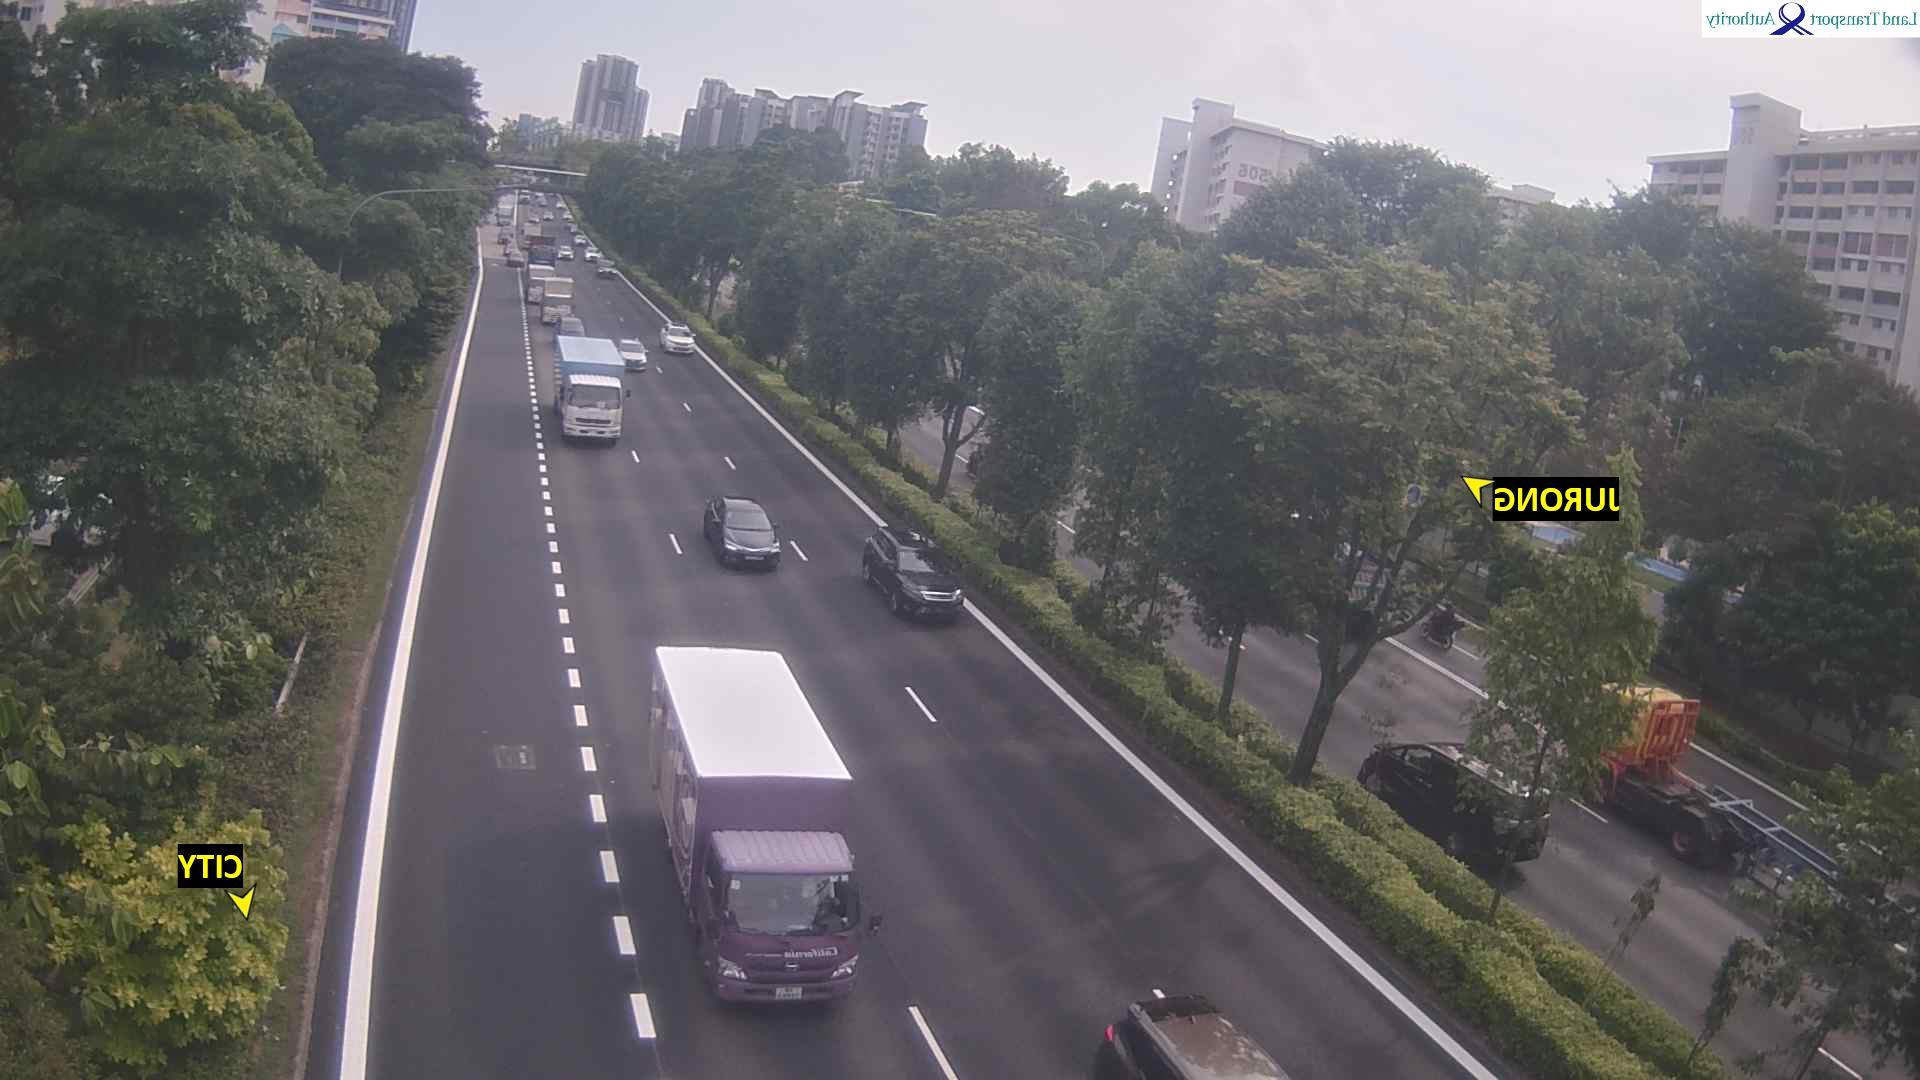incoming: (691, 822, 872, 1010), (878, 545, 972, 625), (554, 375, 633, 450), (713, 508, 778, 574), (667, 326, 699, 355), (620, 343, 651, 372), (541, 298, 574, 326), (595, 261, 620, 277), (527, 280, 543, 303), (556, 247, 576, 261), (584, 248, 601, 262)
